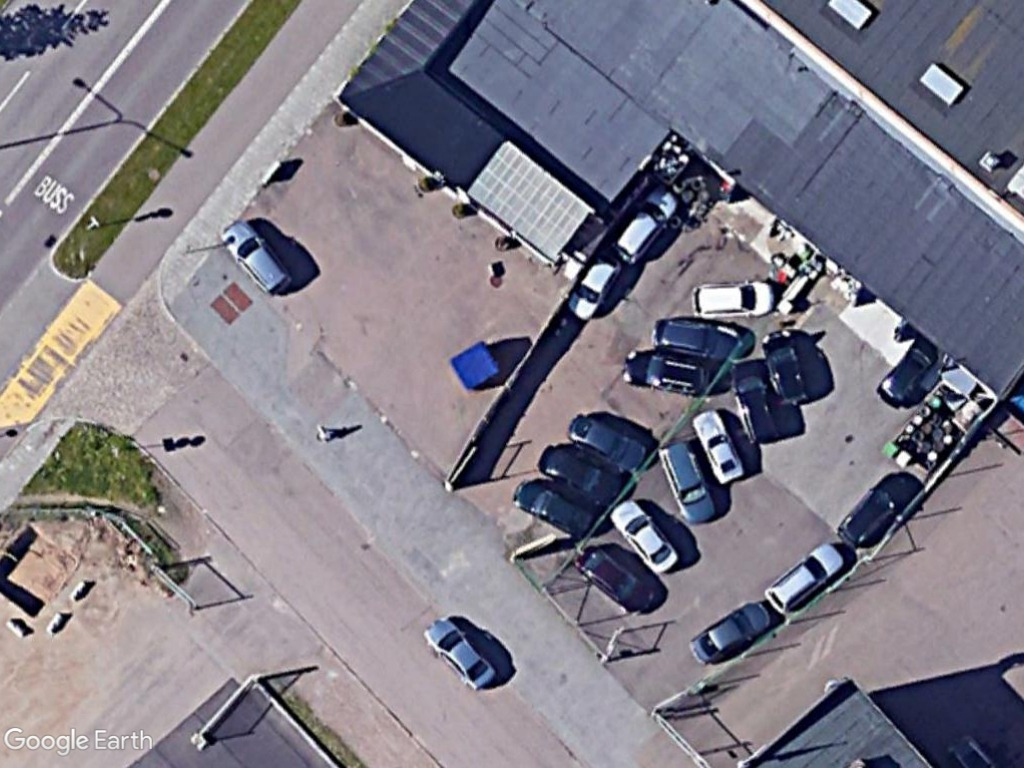car: (603, 179, 686, 269), (572, 543, 663, 620), (417, 610, 499, 694), (759, 538, 851, 612), (835, 470, 916, 553), (221, 215, 300, 298), (684, 598, 776, 666), (655, 436, 720, 527), (609, 497, 682, 578), (565, 413, 650, 473), (621, 348, 713, 400), (691, 406, 746, 486), (689, 273, 777, 322)
